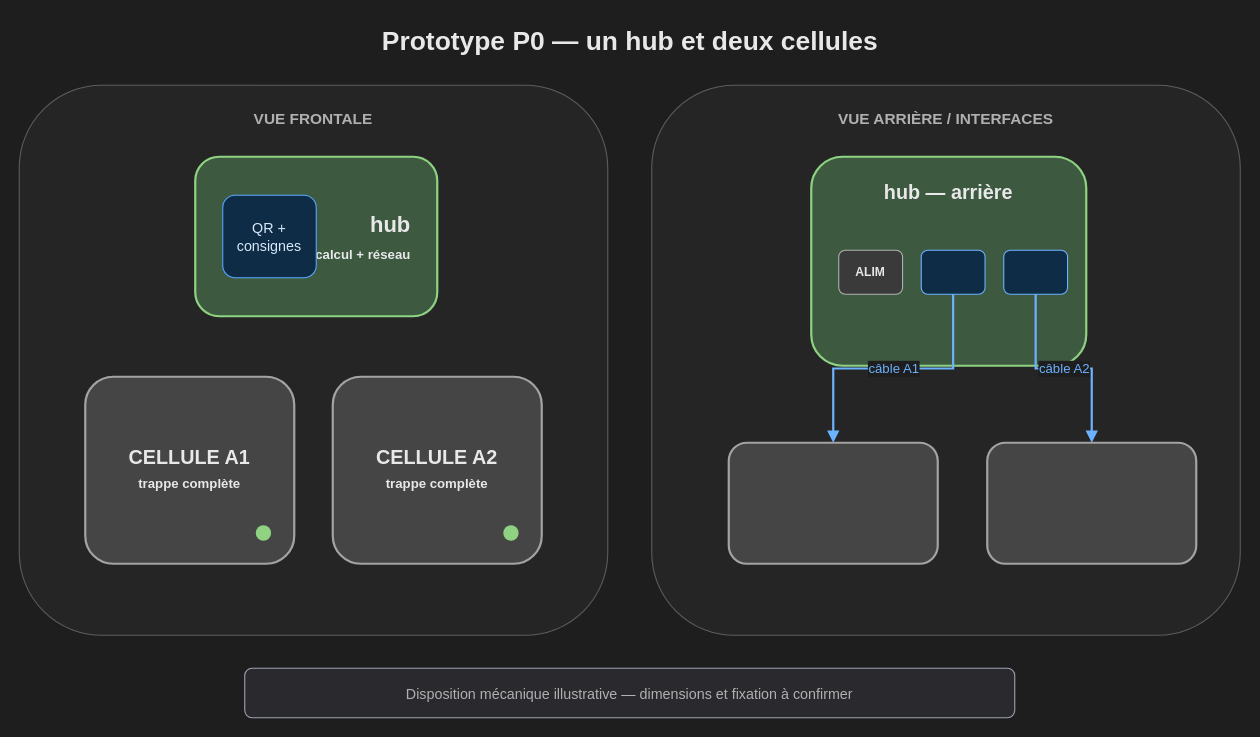
The diagram is 1260 pixels wide and 737 high, and some of its shapes have lost their labels. The shapes that lost their labels are listed below. From the top down, each one's centre as x and y in pixels, then its label:
At point (952, 271): "PORT 1".
At point (1035, 271): "PORT 2".
At point (832, 502): "A1 — arrière 1 connecteur dédié".
At point (1091, 502): "A2 — arrière 1 connecteur dédié".
